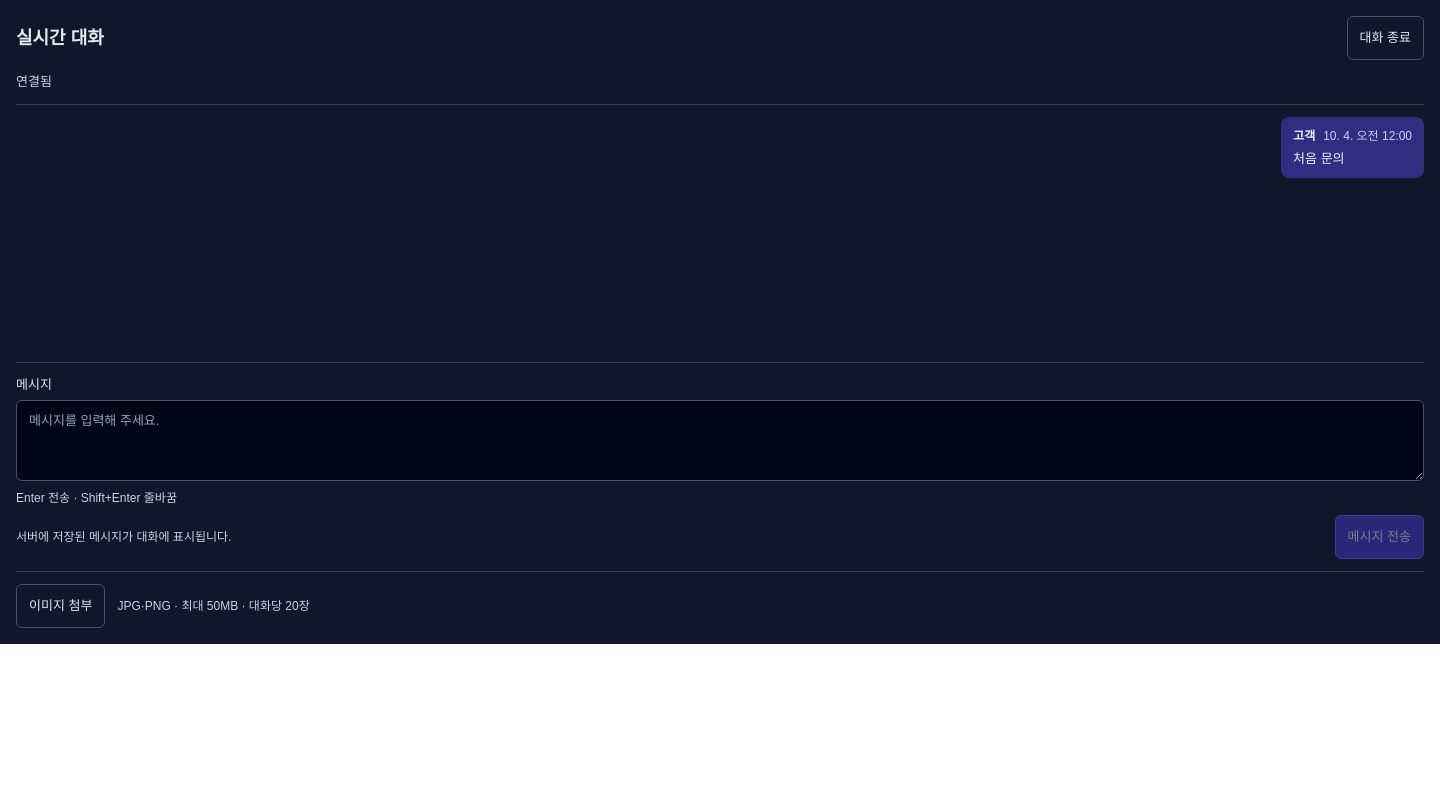
Enter로 전송하고 Shift+Enter·한글 조합·반복 키는 전송하지 않는다
Type "엔터 검수" into the text box labelled "메시지" at (720, 440), box [16,400,1424,481]
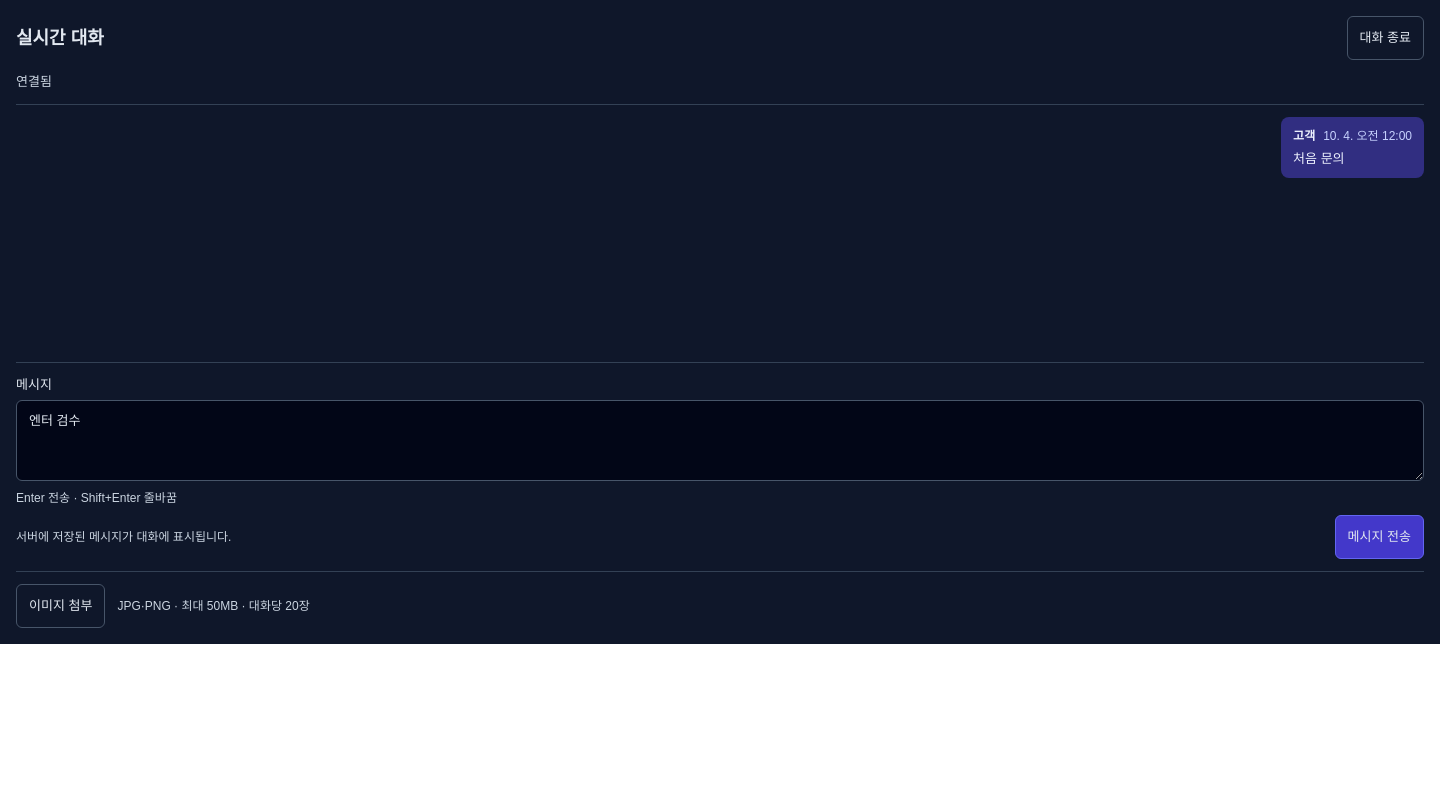
Press Enter in the text box labelled "메시지", box [16,400,1424,481]
Press Enter in the text box labelled "메시지", box [16,400,1424,481]
Press Enter in the text box labelled "메시지", box [16,400,1424,481]
Press Enter in the text box labelled "메시지", box [16,400,1424,481]
Press Enter in the text box labelled "메시지", box [16,400,1424,481]
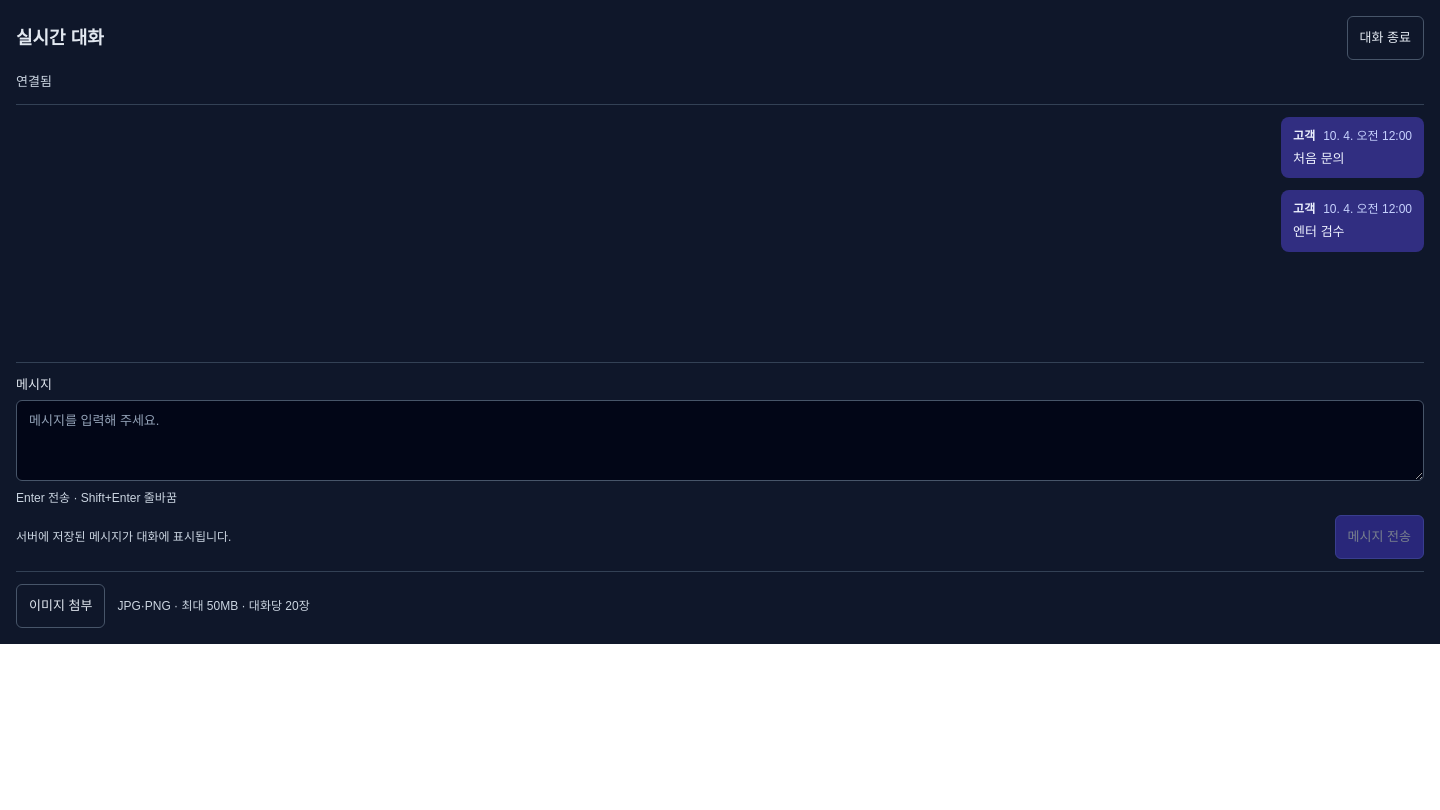
Now the text "엔터 검수" is shown, box [1293,224,1345,239]
